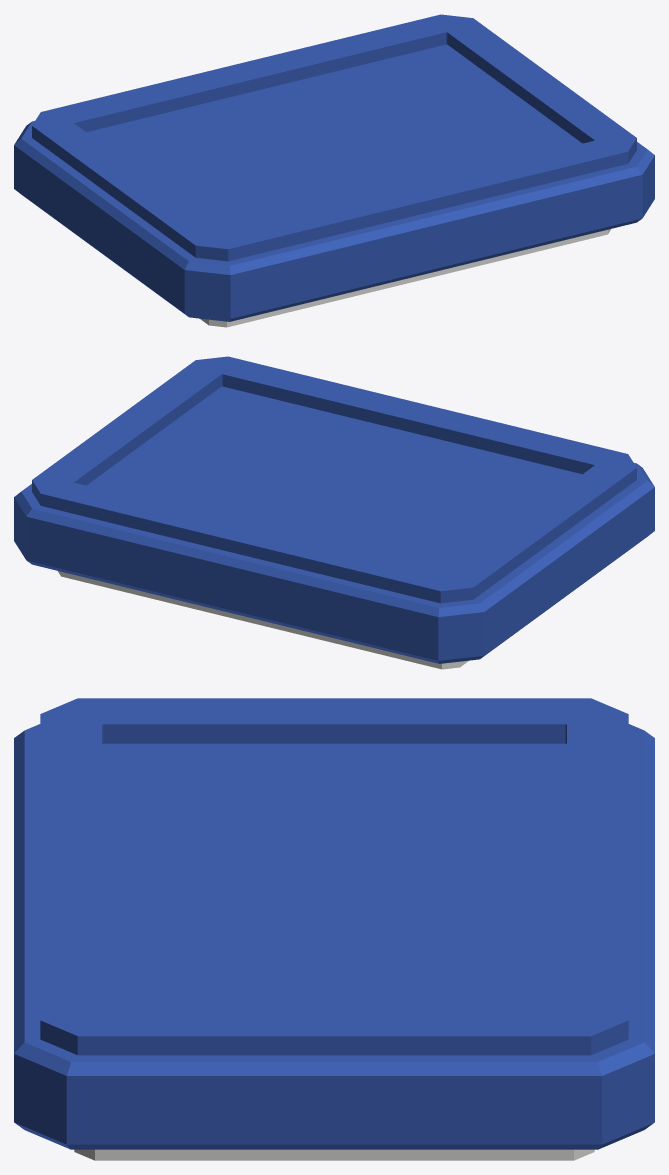
Rendered from SM_Cook_CoolerBox_Lid_Blue_01.fbx.
3 views of the same model, one above another, from view 1: azimuth 30°, elevation 25°; view 2: azimuth 150°, elevation 25°; view 3: azimuth 270°, elevation 25° (orthographic). The views are drawn at different scales.
Visible parts, largest first — view 1: SM_Cook_CoolerBox_Lid_Blue_01; view 2: SM_Cook_CoolerBox_Lid_Blue_01; view 3: SM_Cook_CoolerBox_Lid_Blue_01.
Boxes of the visible parts, x1,y1,x2,y2 form: SM_Cook_CoolerBox_Lid_Blue_01: (14,14,654,327); SM_Cook_CoolerBox_Lid_Blue_01: (14,356,654,669); SM_Cook_CoolerBox_Lid_Blue_01: (14,698,654,1160).
Bounding box in the file's own units: 0.484 × 0.087 × 0.364.
1 material, 1 textured.
